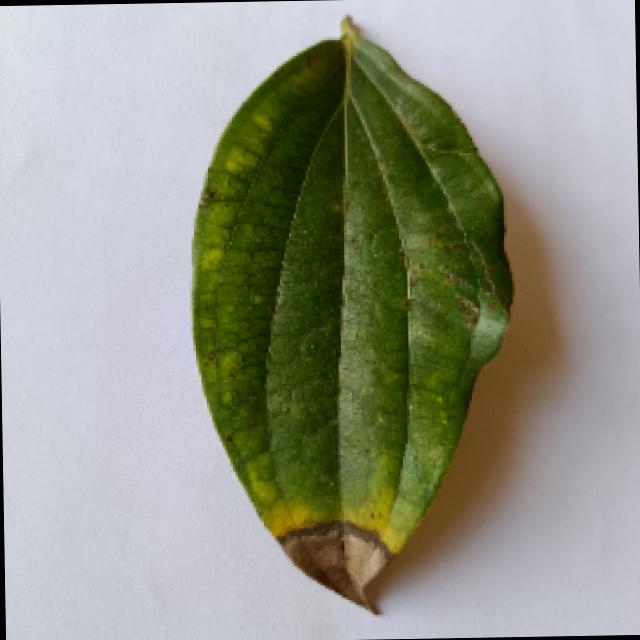footrot: (177, 24, 535, 615)
